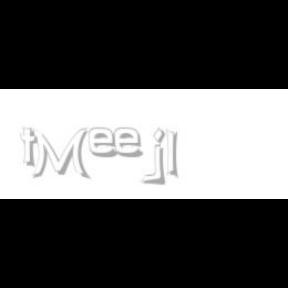M: (30, 128, 88, 180)
e: (88, 128, 122, 158), (114, 128, 148, 158)
j: (150, 128, 180, 186)
l: (166, 128, 182, 180)
t: (20, 128, 42, 168)
